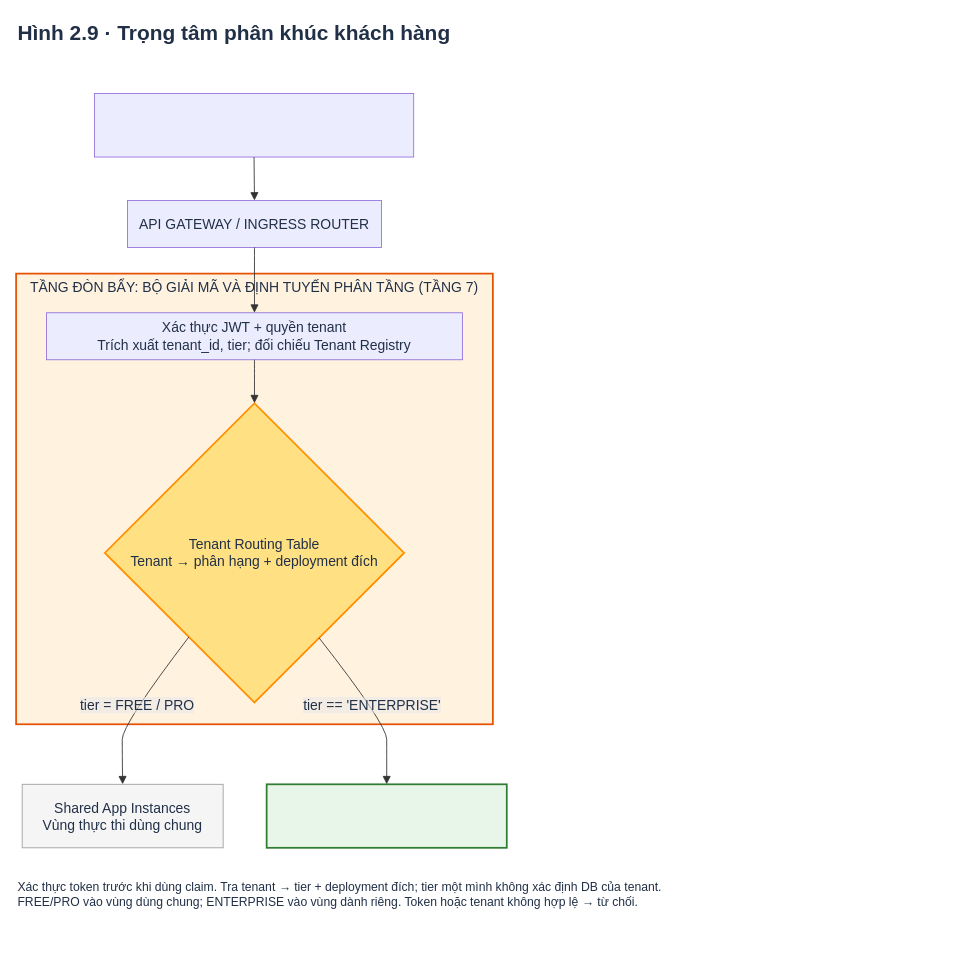
Some shapes in this 961 by 975 pixel diagram are drawn without their labels. The shapes that lost their labels are listed below. From the top down, each one's centre as x and y in pixels, then its label:
point 254,125: Client HTTP Request Header: Authorization: Bearer JWT_TOKEN
point 386,815: Dedicated App Instances Vùng thực thi dành riêng
